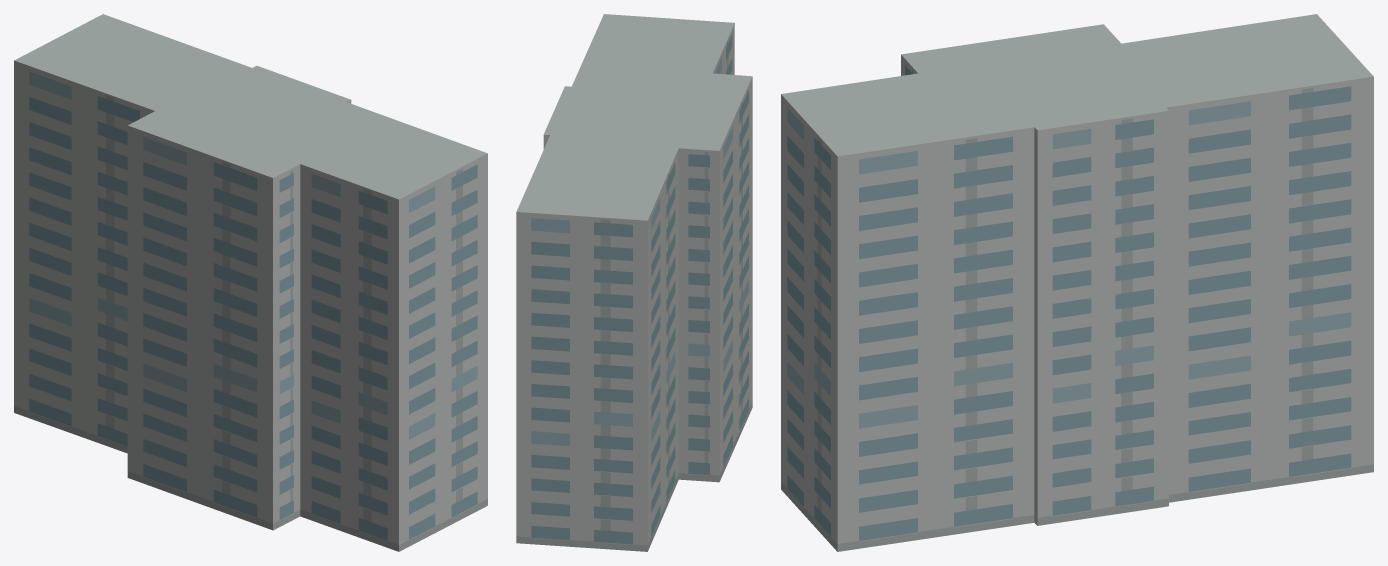
Rendered from survey-upis-32473974.glb.
3 views of the same model, side by side, from view 1: azimuth 30°, elevation 25°; view 2: azimuth 150°, elevation 25°; view 3: azimuth 270°, elevation 25° (orthographic). The views are drawn at different scales.
Parts seen in each view (by area): view 1: survey-upis-32473974.tmp; view 2: survey-upis-32473974.tmp; view 3: survey-upis-32473974.tmp.
Part boxes in pixels (x1=…): survey-upis-32473974.tmp: x1=14, y1=14, x2=487, y2=551; survey-upis-32473974.tmp: x1=516, y1=14, x2=752, y2=551; survey-upis-32473974.tmp: x1=781, y1=14, x2=1373, y2=551.
Size of the model in its own units: 33 by 42.7 by 58.02.
